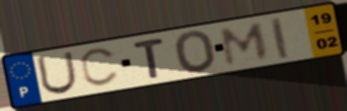C: (78, 46, 121, 89)
I: (268, 15, 292, 61)
M: (219, 21, 270, 68)
O: (172, 29, 219, 77)
T: (131, 36, 167, 80)
U: (35, 50, 80, 96)
